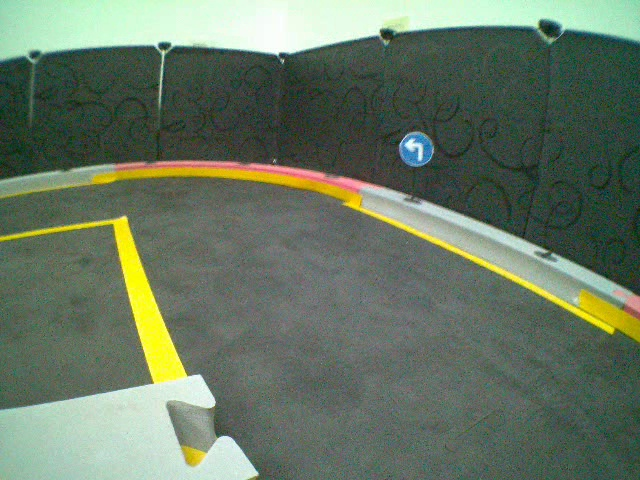turn: (397, 132, 442, 167)
